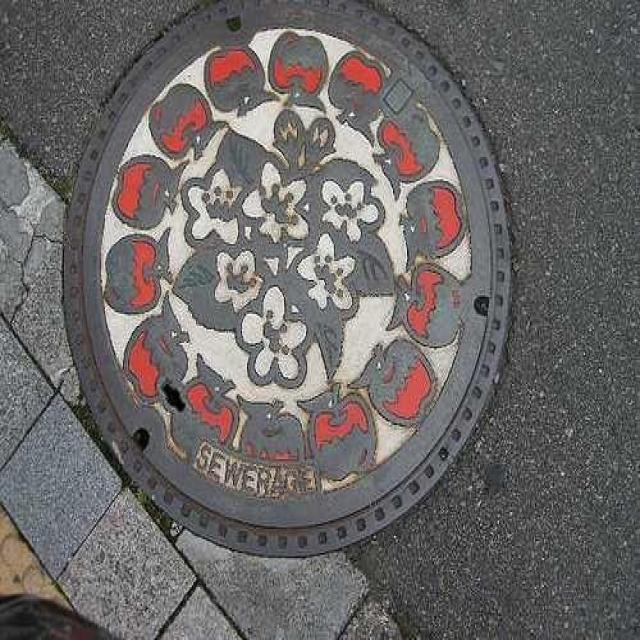manhole: (65, 3, 511, 554)
